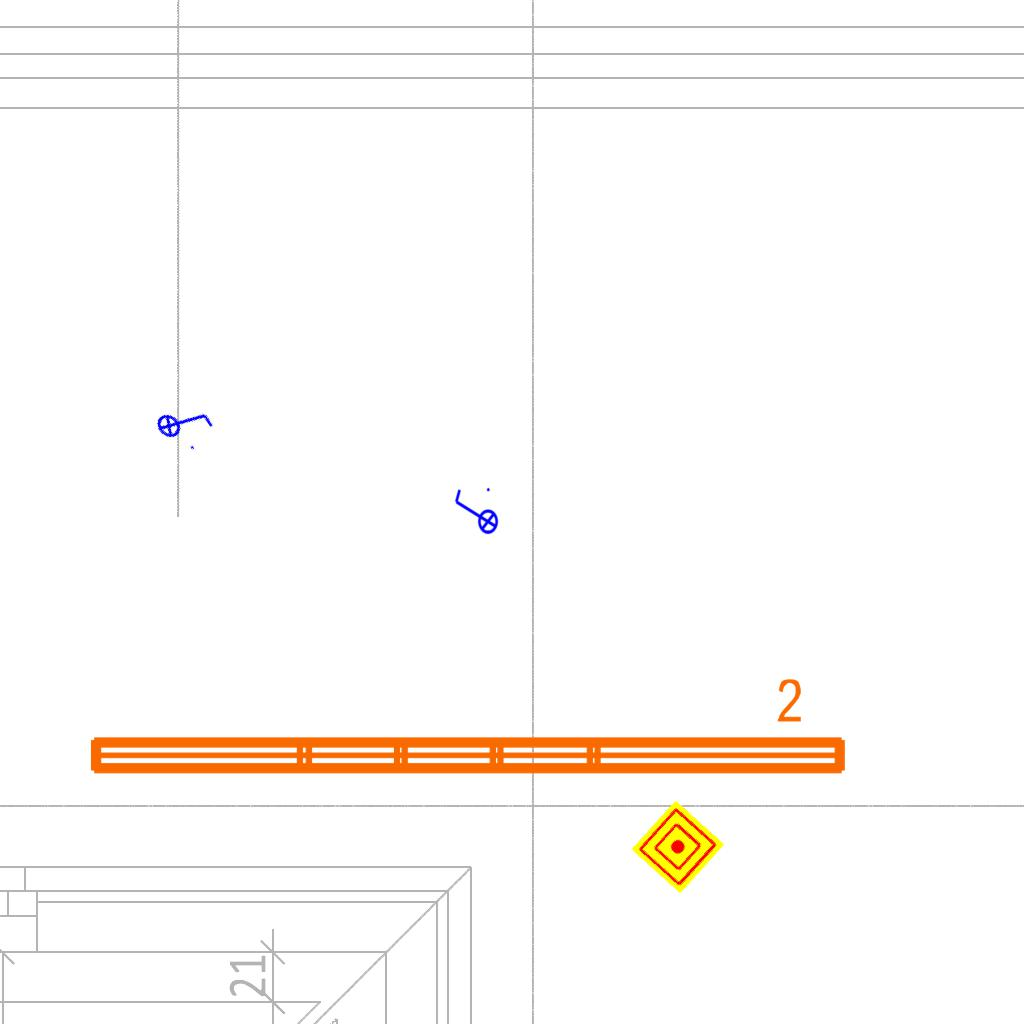Ambulanz_Pendelleuchte_LED: (80, 674, 854, 786)
Ausschalter_beleuchtet: (147, 385, 221, 459), (451, 485, 499, 541)
NAM-Nichtautomatischer_Melder: (631, 800, 725, 894)
